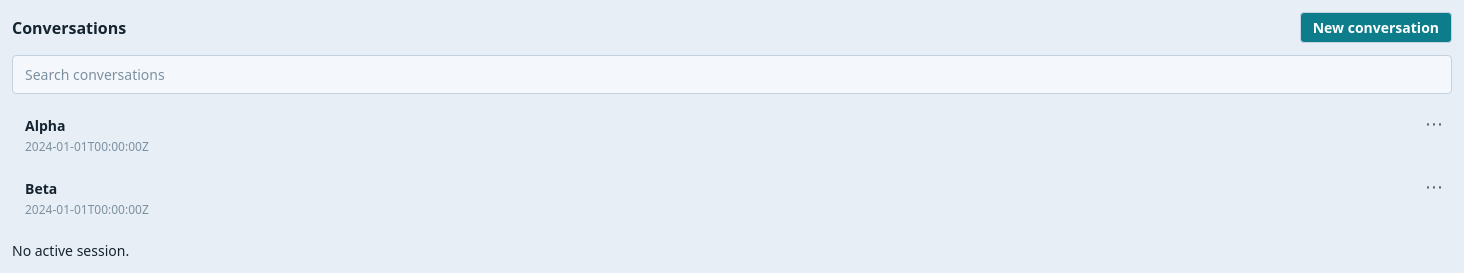
Test case: history surface › SearchBar filters the History list client-side
Expected: the text "Alpha" is shown, [25, 115, 66, 136]
Type "beta" into the search field labelled "Search conversations".
click(732, 74); type("beta")  # box [12, 55, 1452, 94]
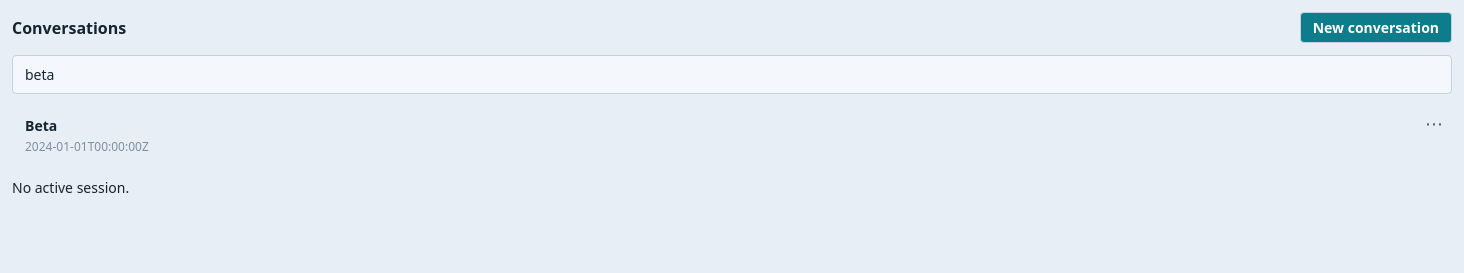
Expected: the text "Beta" is shown, [25, 115, 57, 136]
Expected: the button "Alpha" is gone
